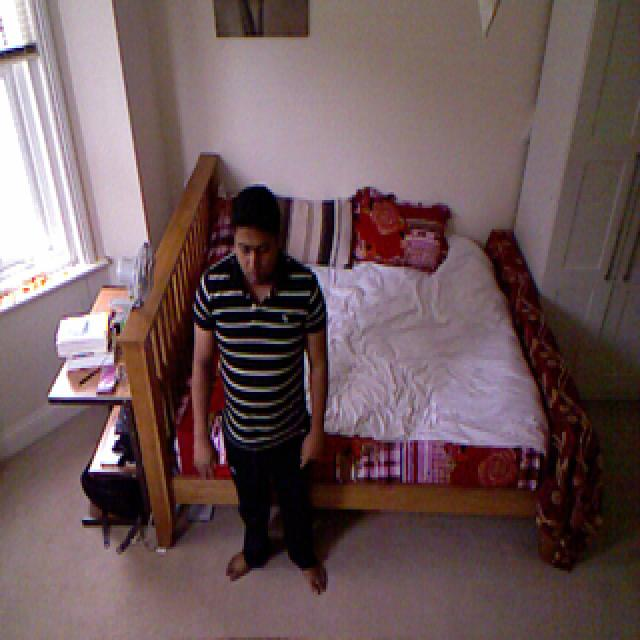standing: (198, 184, 330, 578)
